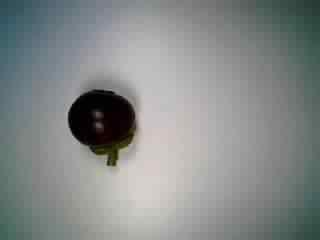mangosteen: (61, 88, 141, 172)
